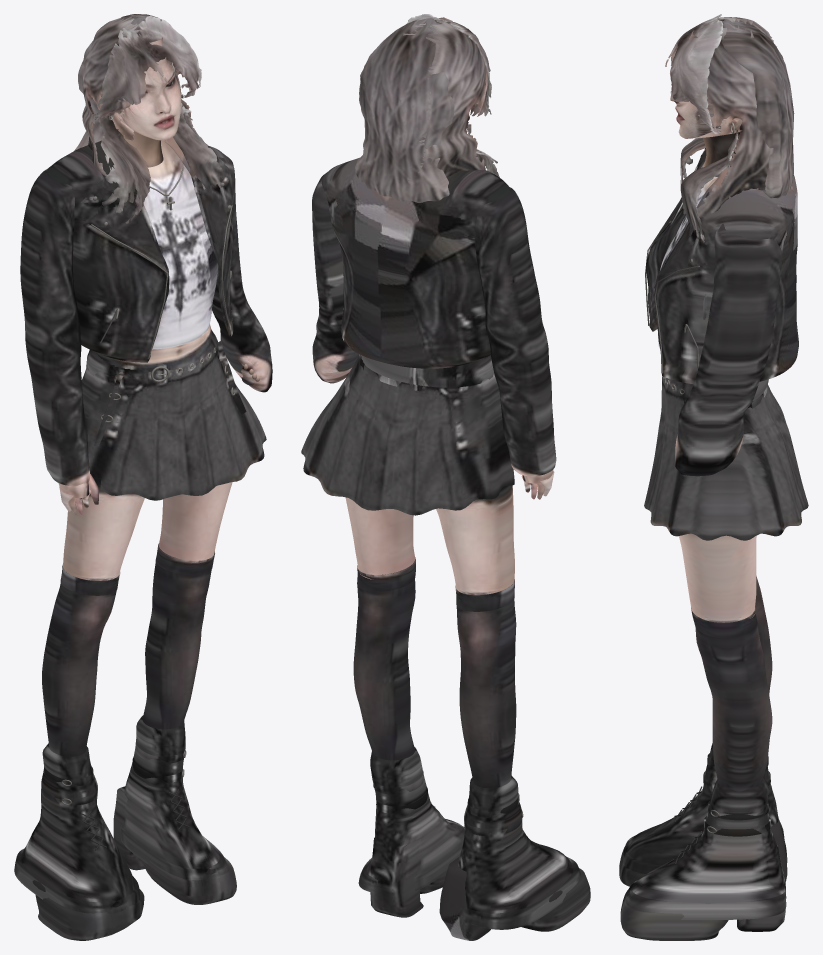
The model's file is passer-01.glb.
3 views of the same model, side by side, from view 1: azimuth 30°, elevation 25°; view 2: azimuth 150°, elevation 25°; view 3: azimuth 270°, elevation 25° (orthographic). The views are drawn at different scales.
Visible parts, largest first — view 1: 炭灰放射褶裙, 机车夹克 · 敞开前襟外壳, 右长袖 · 自然垂落, 右靴 · 高帮鞋面, 十字印花短T · 独立贴身内层, 右腿 · 半透深灰过膝袜, 左腿 · 半透深灰过膝袜, 左靴 · 高帮鞋面, 右腿 · 大腿及膝上, 额前与鬓发 · 原画边界体积, 左长袖 · 屈腕, 左腿 · 大腿及膝上 (+15 smaller); view 2: 机车夹克 · 敞开前襟外壳, 炭灰放射褶裙, 右长袖 · 自然垂落, 后脑及后发 · 闭合体积, 右腿 · 半透深灰过膝袜, 右靴 · 高帮鞋面, 左腿 · 半透深灰过膝袜, 右腿 · 大腿及膝上, 左靴 · 高帮鞋面, 右侧鬓发至后枕 · 轮廓与耳部开口, 左长袖 · 屈腕, 左腿 · 大腿及膝上 (+9 smaller); view 3: 左长袖 · 屈腕, 炭灰放射褶裙, 机车夹克 · 敞开前襟外壳, 左靴 · 高帮鞋面, 左腿 · 半透深灰过膝袜, 后脑及后发 · 闭合体积, 左侧鬓发至后枕 · 轮廓与耳部开口, 左腿 · 大腿及膝上, 右靴 · 高帮鞋面, 额前与鬓发 · 原画边界体积, 左靴 · 沿条, 左靴 · 厚底前掌 (+10 smaller).
Part boxes in pixels (x1,y1,x2,y2): 炭灰放射褶裙: (81,354,266,500); 机车夹克 · 敞开前襟外壳: (47,137,233,362); 右长袖 · 自然垂落: (20,169,89,486); 右靴 · 高帮鞋面: (21,743,134,907); 十字印花短T · 独立贴身内层: (143,140,218,349); 右腿 · 半透深灰过膝袜: (42,566,116,756); 左腿 · 半透深灰过膝袜: (142,544,211,729); 左靴 · 高帮鞋面: (123,715,219,874); 右腿 · 大腿及膝上: (63,477,144,580); 额前与鬓发 · 原画边界体积: (91,15,228,223); 左长袖 · 屈腕: (212,154,272,392); 左腿 · 大腿及膝上: (159,482,232,560); 机车夹克 · 敞开前襟外壳: (321,157,509,368); 炭灰放射褶裙: (301,356,514,515); 右长袖 · 自然垂落: (475,187,556,476); 后脑及后发 · 闭合体积: (355,18,454,202); 右腿 · 半透深灰过膝袜: (456,584,516,788); 右靴 · 高帮鞋面: (458,776,573,913); 左腿 · 半透深灰过膝袜: (353,559,415,760); 右腿 · 大腿及膝上: (436,485,514,595); 左靴 · 高帮鞋面: (366,747,464,886); 右侧鬓发至后枕 · 轮廓与耳部开口: (418,19,487,177); 左长袖 · 屈腕: (312,172,359,383); 左腿 · 大腿及膝上: (345,497,415,579); 左长袖 · 屈腕: (675,223,782,476); 炭灰放射褶裙: (644,376,808,540); 机车夹克 · 敞开前襟外壳: (646,148,798,384); 左靴 · 高帮鞋面: (627,778,785,903); 左腿 · 半透深灰过膝袜: (695,615,772,791); 后脑及后发 · 闭合体积: (721,19,794,198); 左侧鬓发至后枕 · 轮廓与耳部开口: (697,24,773,218); 左腿 · 大腿及膝上: (679,533,756,622); 右靴 · 高帮鞋面: (623,743,785,865); 额前与鬓发 · 原画边界体积: (665,14,738,319); 左靴 · 沿条: (624,879,786,919); 左靴 · 厚底前掌: (620,890,728,940).
Size of the model in its own units: 0.4977 by 1.78 by 0.3378.
Materials: 201 (185 with a texture image).
